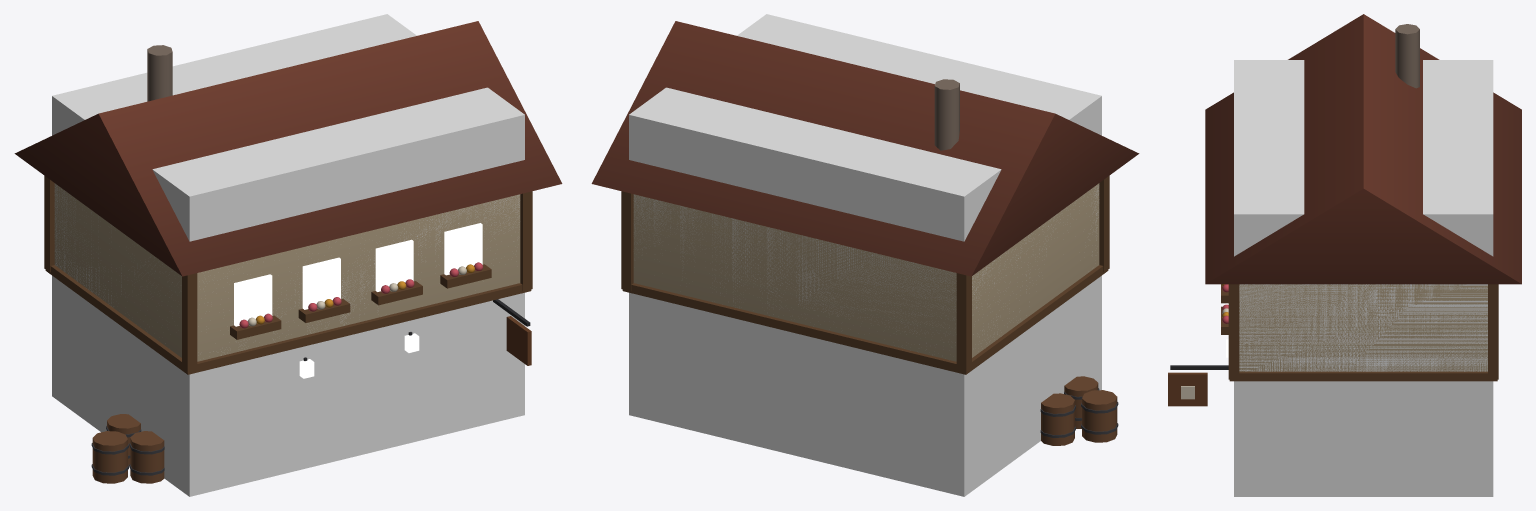
File: posada_copa.glb
3 views of the same model, side by side, from view 1: azimuth 30°, elevation 25°; view 2: azimuth 150°, elevation 25°; view 3: azimuth 270°, elevation 25° (orthographic). The views are drawn at different scales.
Visible parts, largest first — view 1: posada_copa_Malla, COL_0; view 2: posada_copa_Malla, COL_0; view 3: posada_copa_Malla, COL_0.
Part boxes in pixels (bbox=[...]): posada_copa_Malla: bbox=[14, 21, 562, 483]; COL_0: bbox=[52, 14, 524, 496]; posada_copa_Malla: bbox=[591, 21, 1139, 445]; COL_0: bbox=[629, 14, 1101, 496]; posada_copa_Malla: bbox=[1168, 14, 1521, 406]; COL_0: bbox=[1234, 60, 1493, 496].
Bounding box in the file's own units: 10.2 × 8.6 × 8.05.
